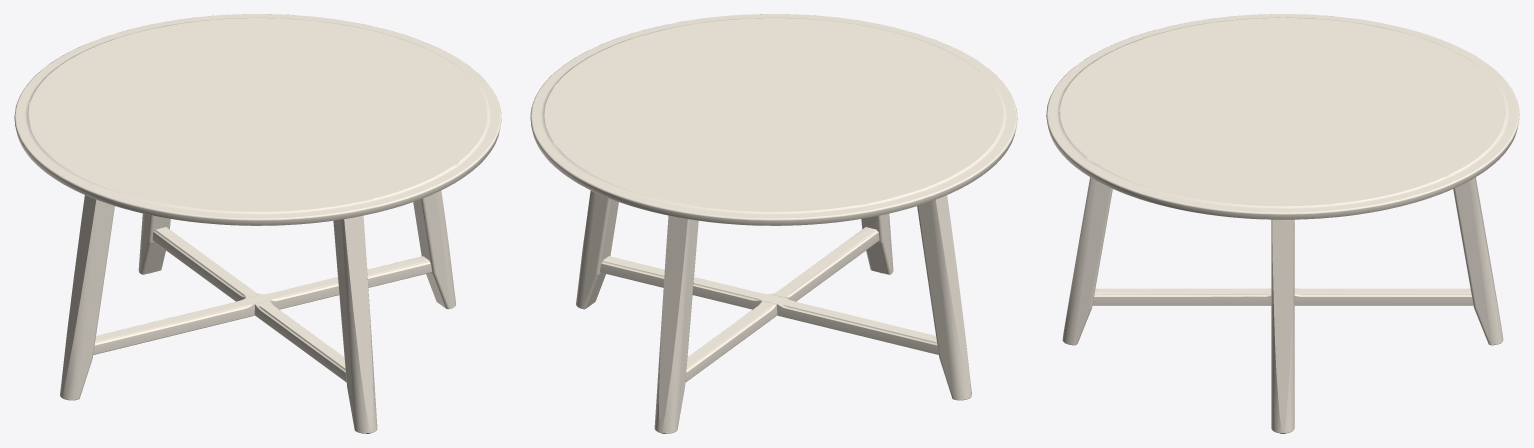
The model's file is kragsta_stolik_kawowy_20286638.glb.
The picture shows the model from 3 angles, left to right: view 1: azimuth 30°, elevation 25°; view 2: azimuth 150°, elevation 25°; view 3: azimuth 270°, elevation 25°; orthographic projection. The views are drawn at different scales.
Visible parts, largest first — view 1: kragsta_stolik_kawowy_20286638; view 2: kragsta_stolik_kawowy_20286638; view 3: kragsta_stolik_kawowy_20286638.
Boxes of the visible parts, left/top/right/bottom form: kragsta_stolik_kawowy_20286638: left=14, top=14, right=501, bottom=433; kragsta_stolik_kawowy_20286638: left=530, top=14, right=1017, bottom=433; kragsta_stolik_kawowy_20286638: left=1046, top=14, right=1519, bottom=433.
Size of the model in its own units: 0.9001 by 0.4836 by 0.9001.
Materials: 1 (1 with a texture image).
